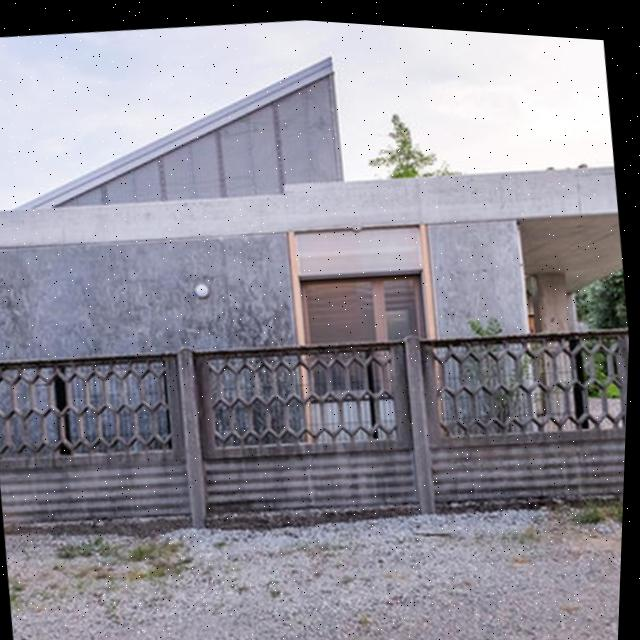building: (0, 0, 640, 503)
